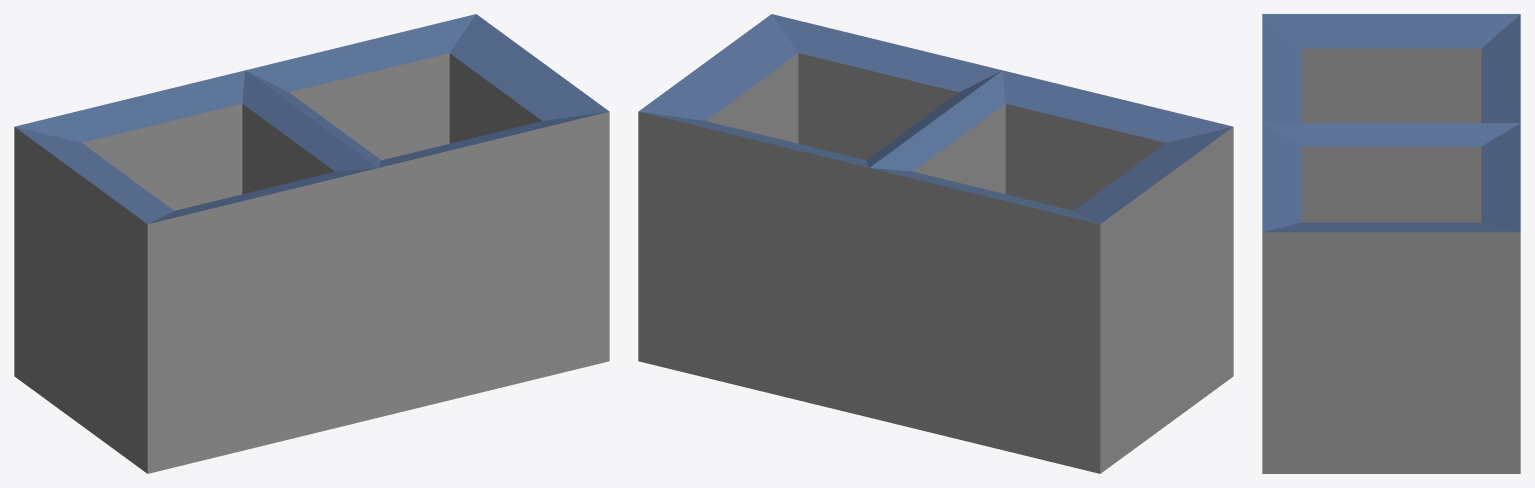
Rendered from Cinder.fbx.
The picture shows the model from 3 angles, left to right: view 1: azimuth 30°, elevation 25°; view 2: azimuth 150°, elevation 25°; view 3: azimuth 270°, elevation 25°; orthographic projection. The views are drawn at different scales.
Parts seen in each view (by area): view 1: Cube; view 2: Cube; view 3: Cube.
Part boxes in pixels (x1=…): Cube: x1=14, y1=14, x2=609, y2=473; Cube: x1=638, y1=14, x2=1233, y2=473; Cube: x1=1262, y1=14, x2=1520, y2=473.
Size of the model in its own units: 1 by 0.5164 by 0.5.
